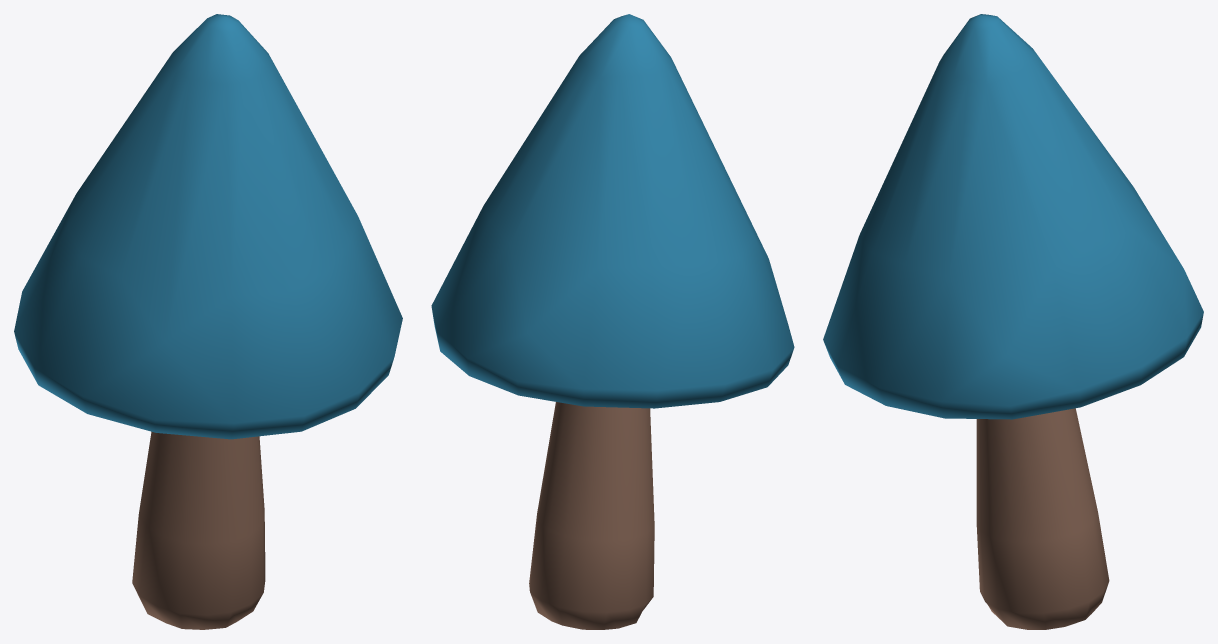
The model's file is Pilz_blau.glb.
3 views of the same model, side by side, from view 1: azimuth 30°, elevation 25°; view 2: azimuth 150°, elevation 25°; view 3: azimuth 270°, elevation 25° (orthographic). The views are drawn at different scales.
Visible parts, largest first — view 1: Pilz spitz.001; view 2: Pilz spitz.001; view 3: Pilz spitz.001.
Boxes of the visible parts, x1=… form: Pilz spitz.001: x1=14, y1=14, x2=402, y2=629; Pilz spitz.001: x1=431, y1=14, x2=794, y2=629; Pilz spitz.001: x1=823, y1=14, x2=1203, y2=629.
Bounding box in the file's own units: 0.7085 × 1.22 × 0.7058.
